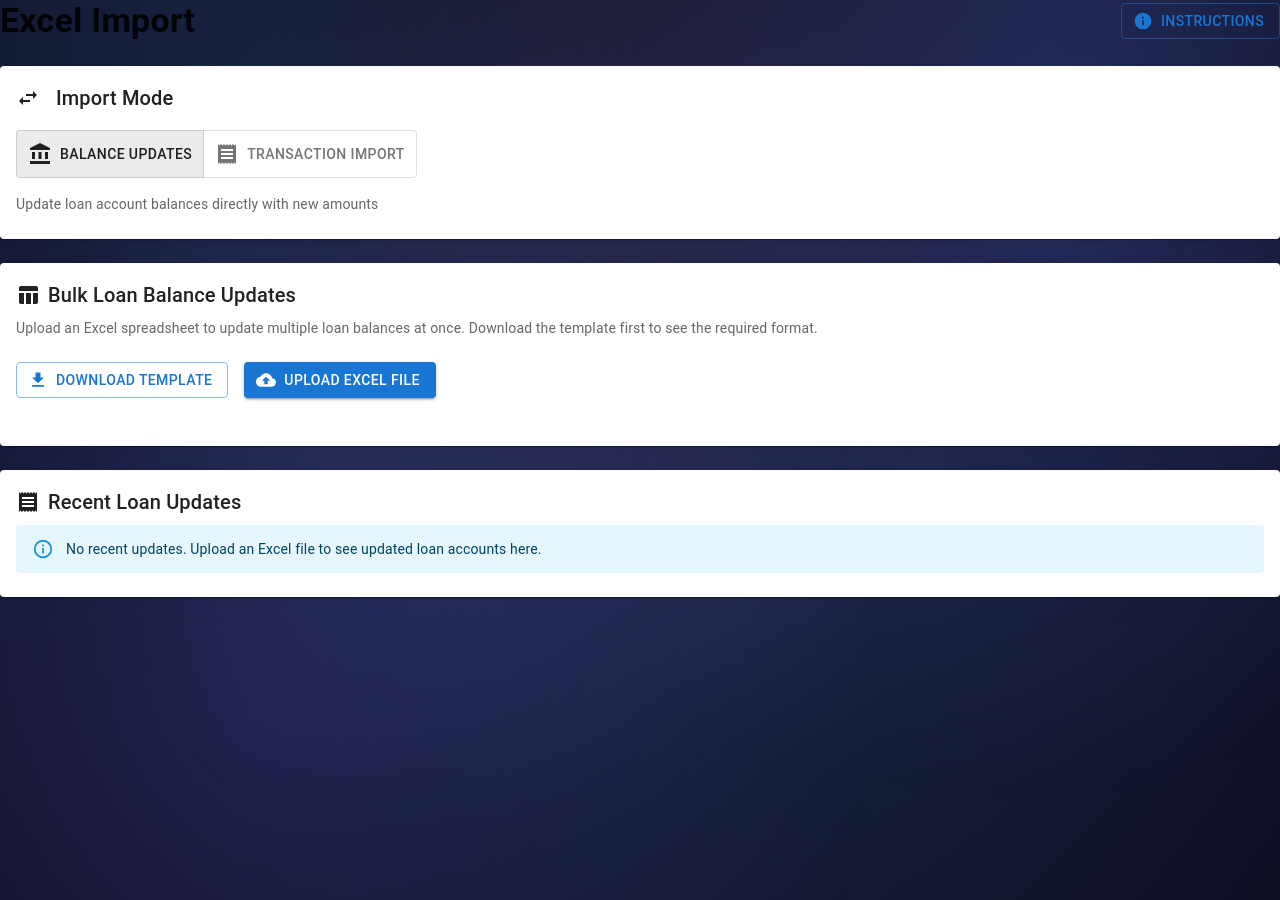
Test case: ExcelUpload Component › Instructions Dialog › opens instructions dialog
Note: Open instructions
Step 1. Click the button "Instructions" → (1200, 21), box [1121,3,1279,39]
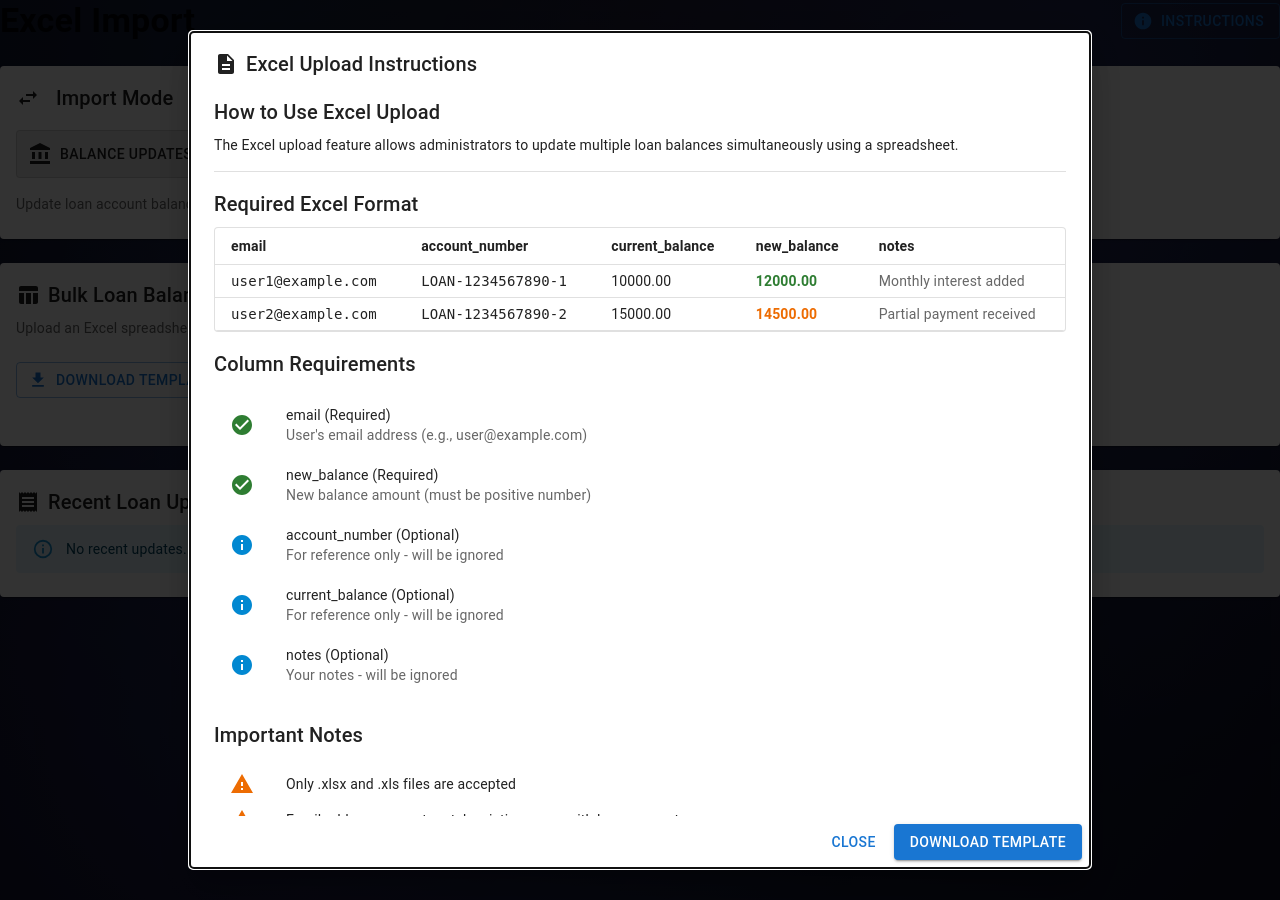
Check: the heading "Excel Upload Instructions" is shown, box [214,52,477,76]
Check: the heading "How to Use Excel Upload" is shown, box [214,100,440,124]
Check: the heading "Required Excel Format" is shown, box [214,192,418,216]
